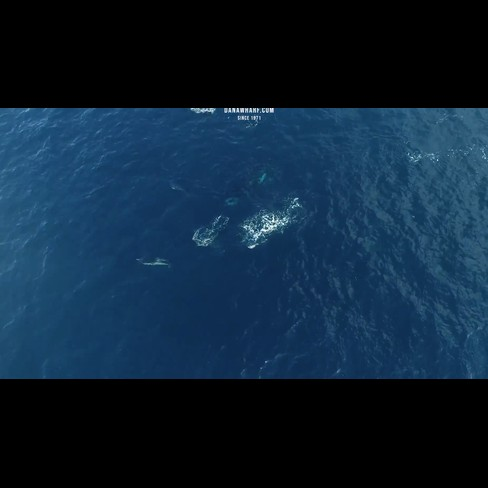orca: (135, 253, 183, 270)
